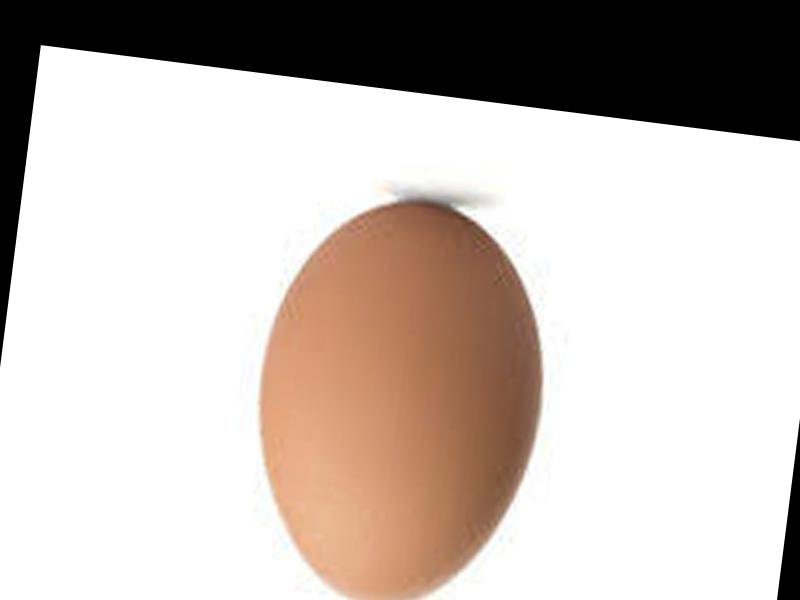Eggs: (238, 181, 563, 600)
